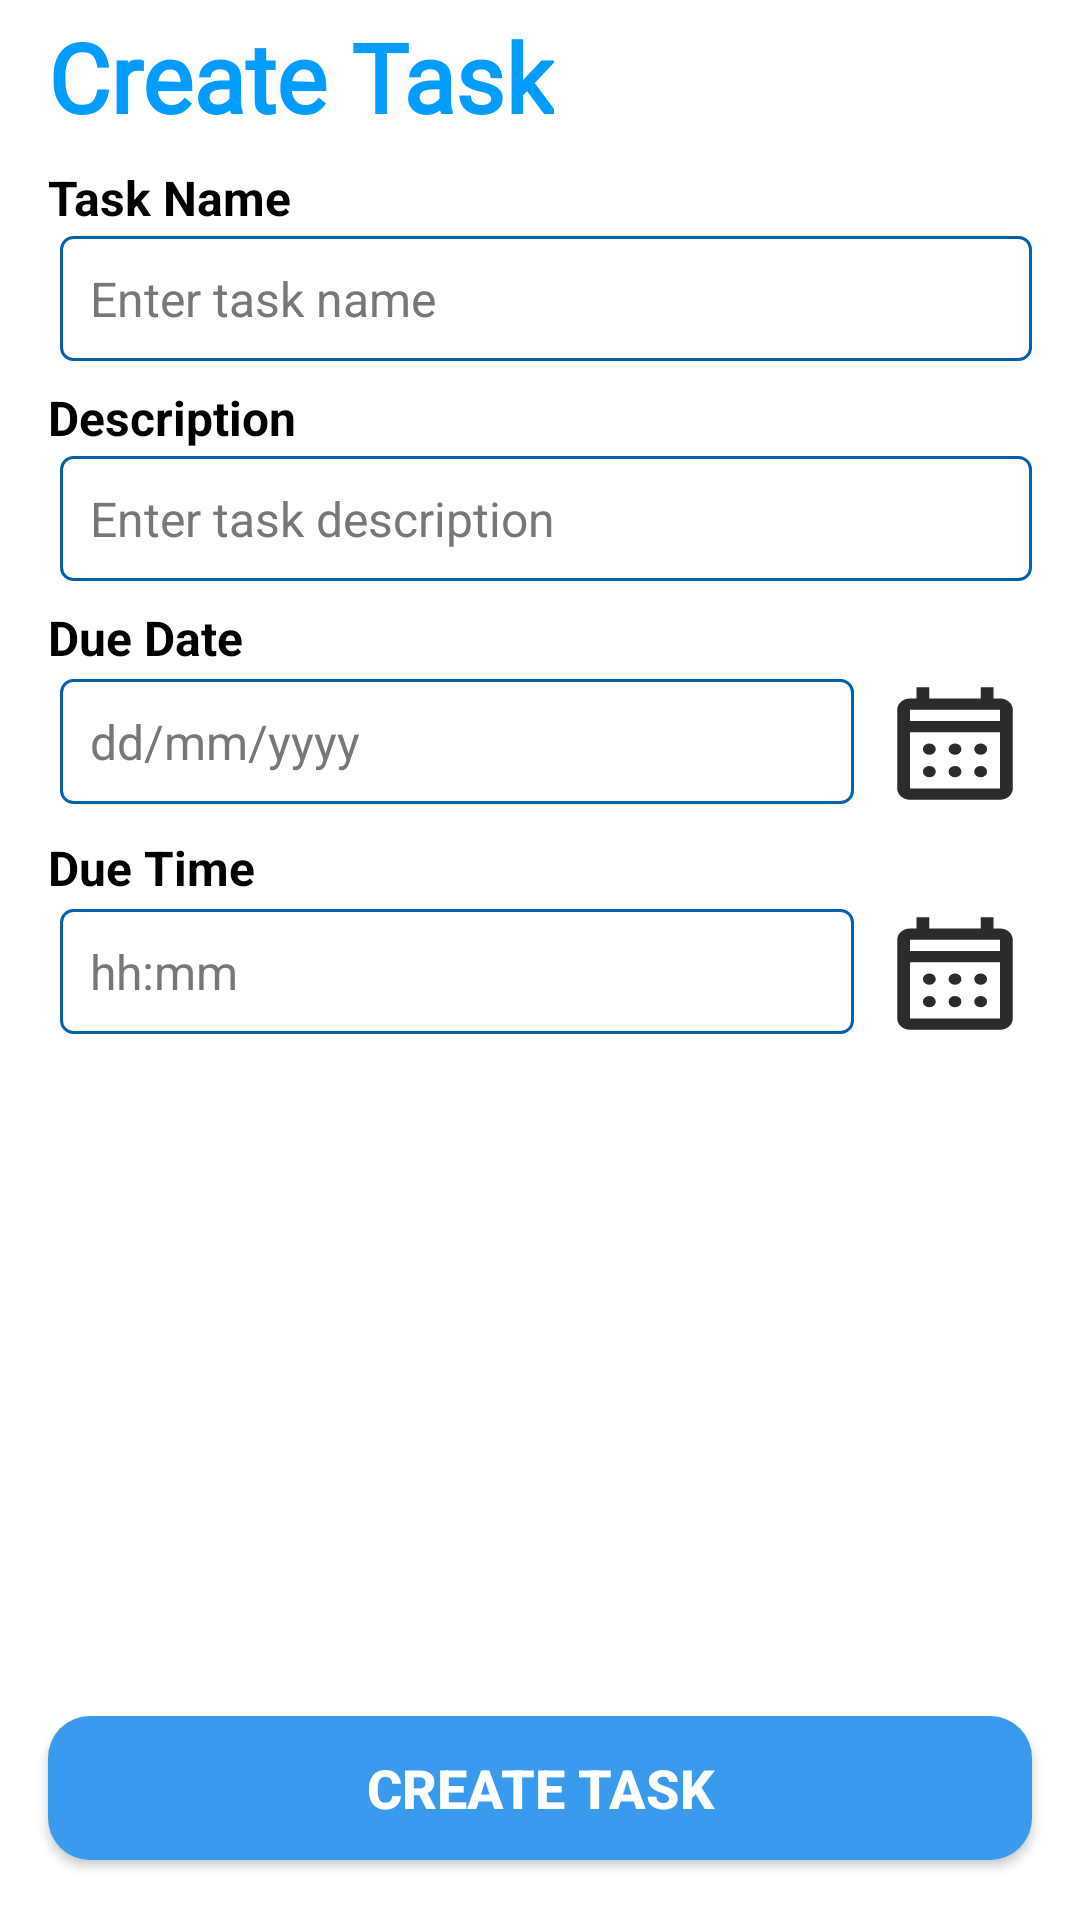

Named icons in this screenshot (1080 × 1920) and their bounding boxes, [x1=x1, y1=y1, x2=x2, y2=y2]:
calender: [x1=897, y1=687, x2=1013, y2=800], [x1=897, y1=917, x2=1013, y2=1030]
